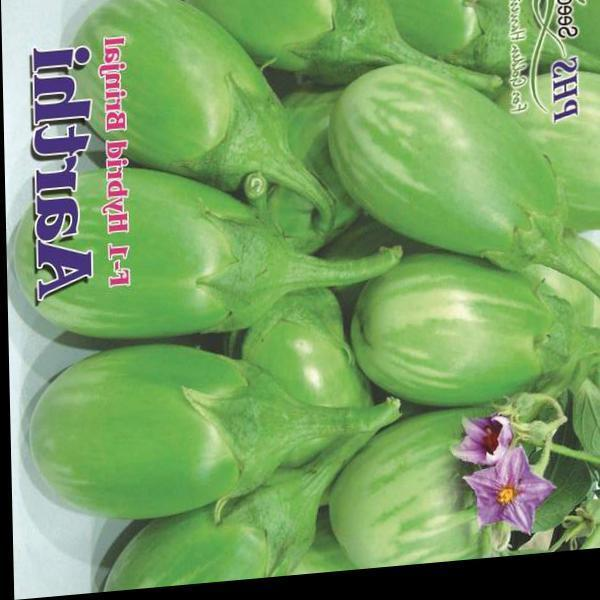eggplant: (125, 0, 552, 400)
